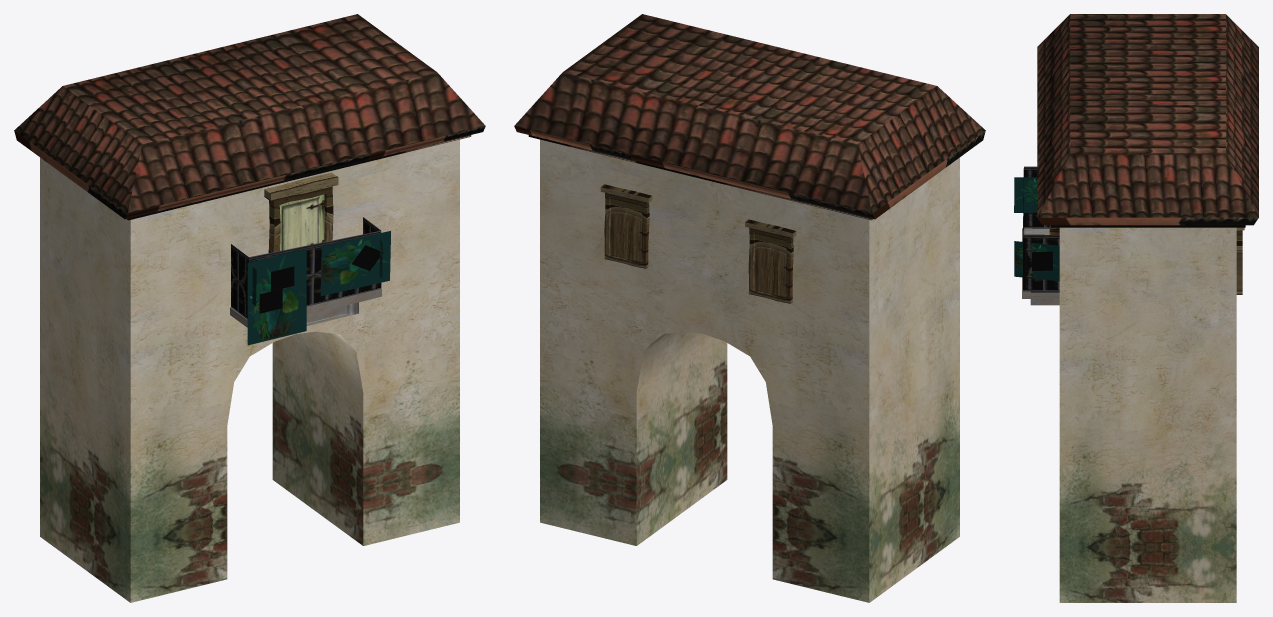
The model's file is spanish_archB.fbx.
3 renders of one model, left to right at view 1: azimuth 30°, elevation 25°; view 2: azimuth 150°, elevation 25°; view 3: azimuth 270°, elevation 25°, orthographic. The views are drawn at different scales.
Visible parts, largest first — view 1: arch, roof, plant2, railing1, plant1, polySurface8, pPlane1, balcony_top, balcony_bottom; view 2: arch, roof, window_open3_polySurface9, window_open3_polySurface8; view 3: arch, roof, railing1, plant3, plant4, balcony_top, window_open3_polySurface9, flower4.
Boxes of the visible parts, <box> form: arch: <box>40,139,459,602</box>; roof: <box>14,14,485,220</box>; plant2: <box>247,248,306,345</box>; railing1: <box>231,217,381,319</box>; plant1: <box>320,231,390,296</box>; polySurface8: <box>264,172,338,252</box>; pPlane1: <box>279,194,324,250</box>; balcony_top: <box>230,288,381,327</box>; balcony_bottom: <box>306,302,358,325</box>; arch: <box>540,139,959,602</box>; roof: <box>514,14,985,220</box>; window_open3_polySurface9: <box>600,184,652,268</box>; window_open3_polySurface8: <box>745,219,796,303</box>; arch: <box>1059,227,1236,602</box>; roof: <box>1037,14,1258,227</box>; railing1: <box>1023,166,1059,292</box>; plant3: <box>1014,241,1059,281</box>; plant4: <box>1014,177,1037,212</box>; balcony_top: <box>1022,228,1059,298</box>; window_open3_polySurface9: <box>1236,227,1244,294</box>; flower4: <box>1032,251,1052,271</box>.
Bounding box in the file's own units: 3254 × 3909 × 1970.
2 materials, 2 textured.
